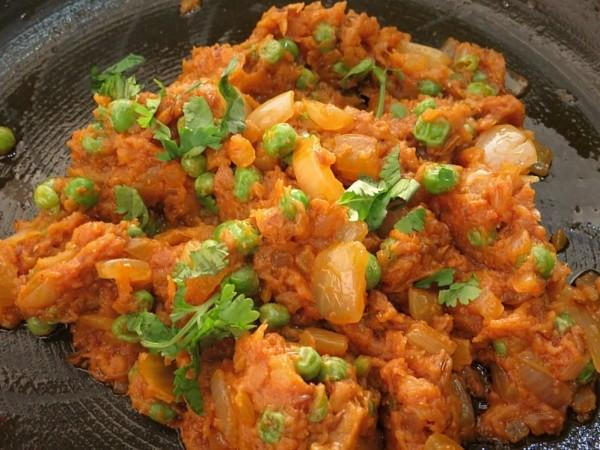AlooGobi: (1, 0, 600, 450)
